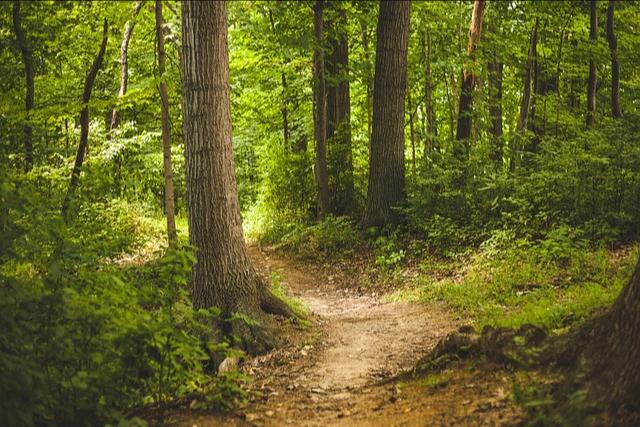Non_Gorille: (63, 2, 592, 396)
